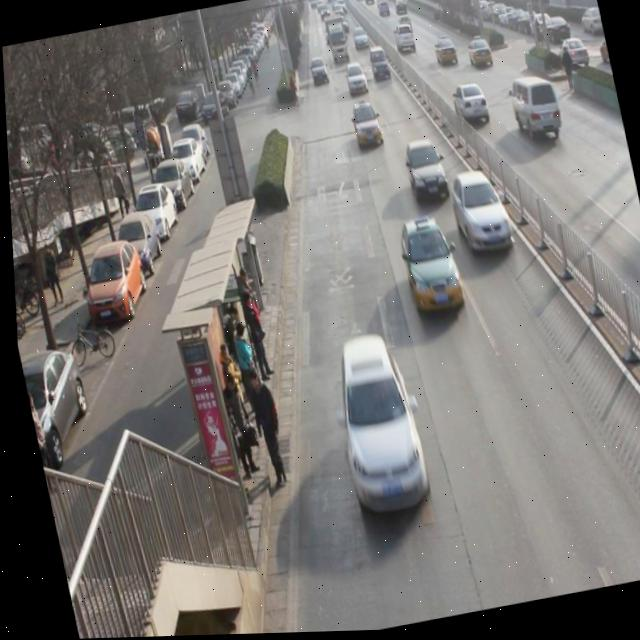bus: (325, 22, 350, 63)
car: (320, 329, 433, 522), (391, 214, 465, 321), (445, 171, 516, 260), (399, 141, 449, 204), (447, 81, 491, 131), (349, 105, 384, 152), (464, 37, 495, 73), (342, 64, 371, 101), (367, 47, 392, 87), (432, 35, 459, 69), (393, 25, 418, 56), (308, 57, 330, 87), (352, 28, 369, 53)
truck: (507, 76, 564, 151)
